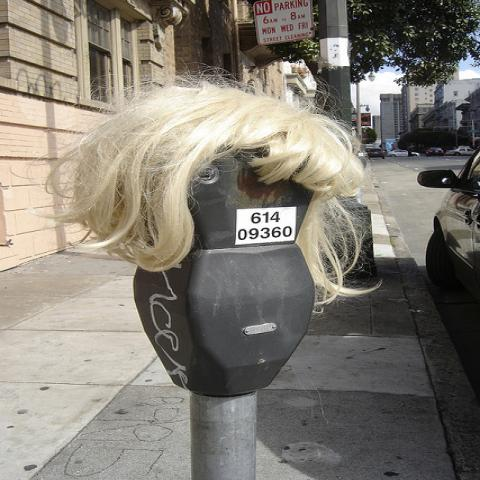car: (417, 146, 479, 345), (367, 147, 386, 160), (386, 150, 420, 157), (426, 147, 446, 157)
